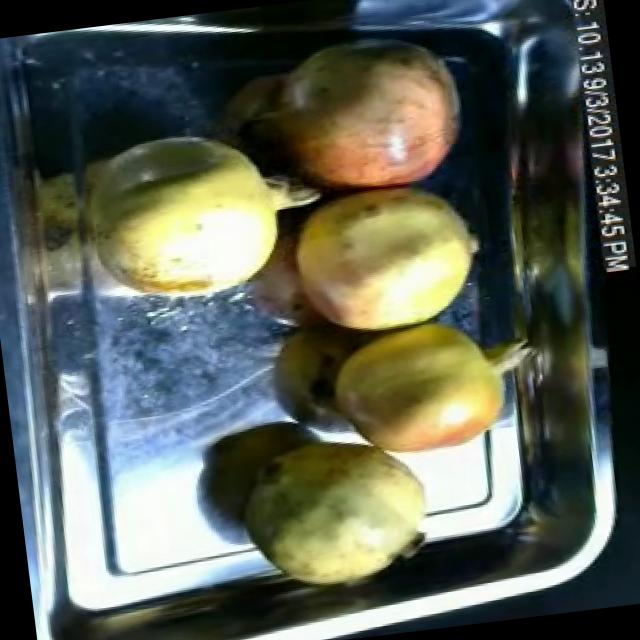fruit: (49, 95, 321, 338), (214, 15, 484, 222), (269, 163, 501, 350), (222, 418, 448, 602), (314, 304, 520, 472)
